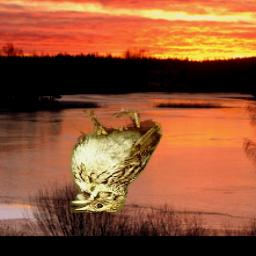Sparrow: (70, 109, 162, 214)
